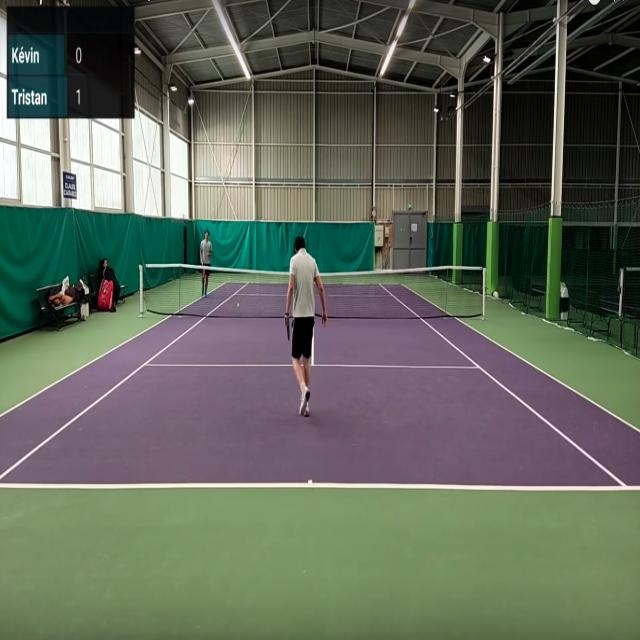ball: (237, 302, 240, 307)
